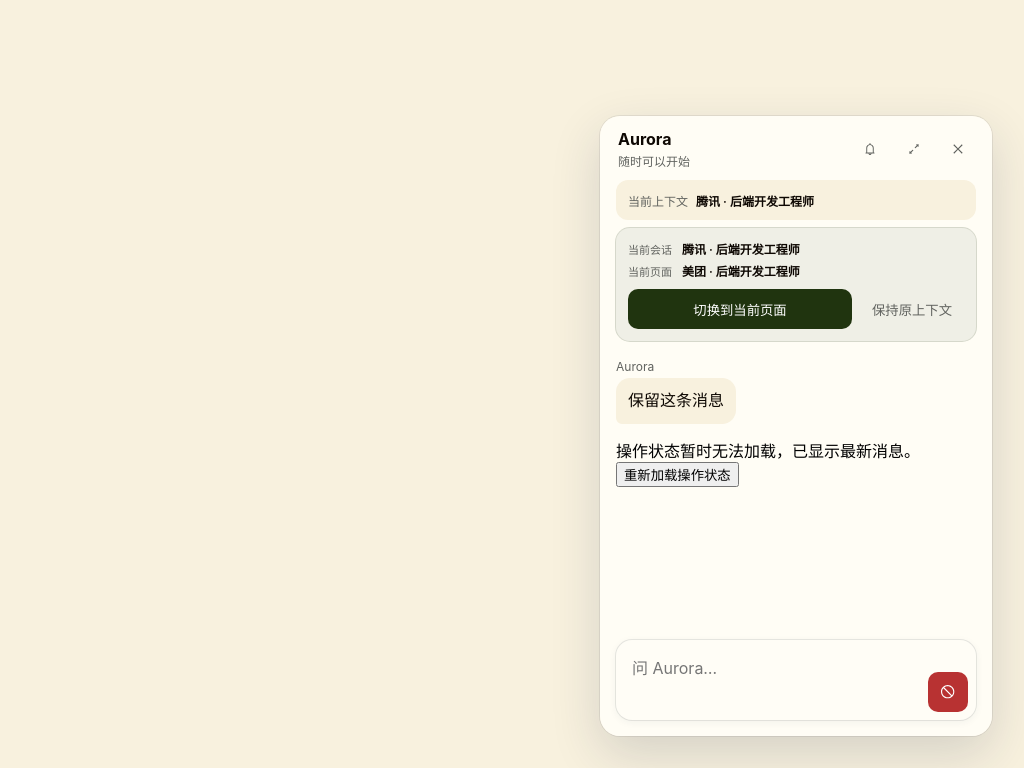
Test case: HaruChatWindow › keeps a visible read-only recovery entry without Pending or Undo and recovers the display
This screenshot has width=1024, height=768.
Click the button "重新加载操作状态".
click(677, 474)  # box [616,462,739,487]
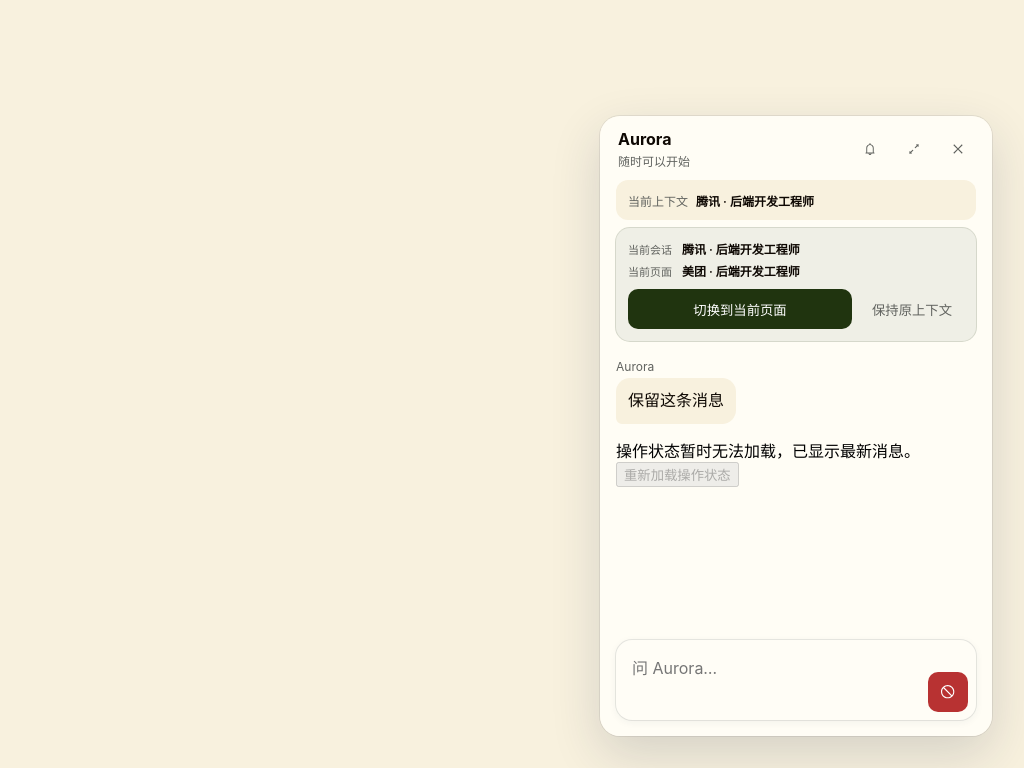
Now the button "重新加载操作状态" is disabled
Click the button "重新加载操作状态".
click(677, 474)  # box [616,462,739,487]
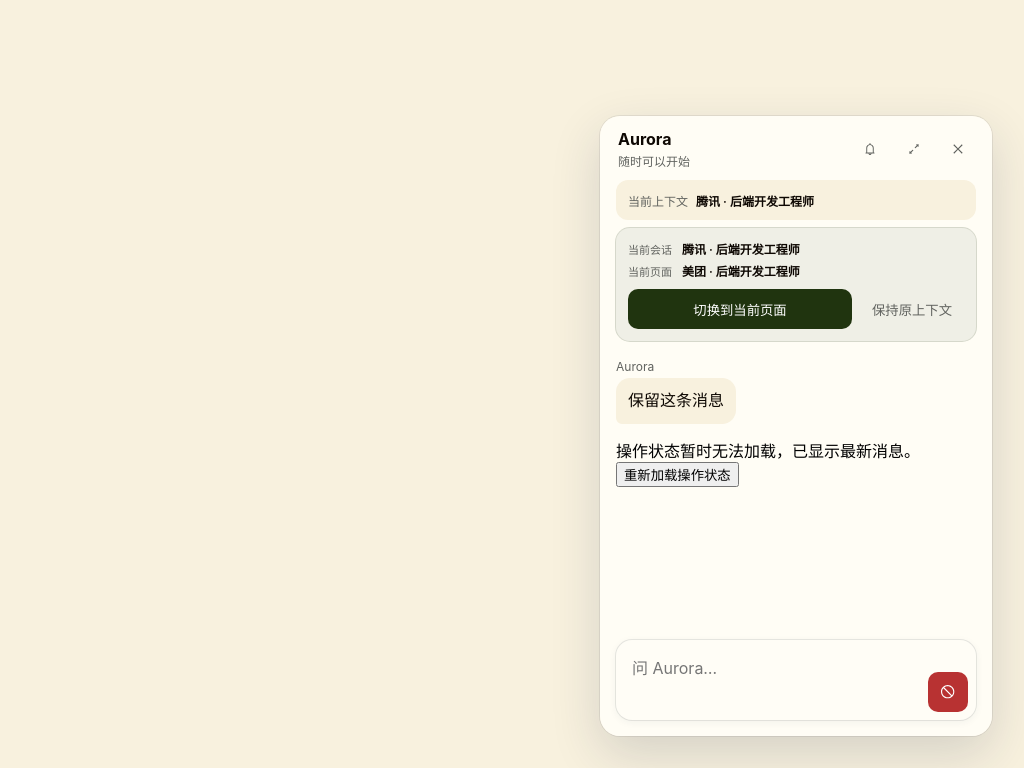
Expected: the text "保留这条消息" is shown, [616,378,736,424]
Now the button "重新加载操作状态" is enabled
Click the button "重新加载操作状态".
click(677, 474)  # box [616,462,739,487]
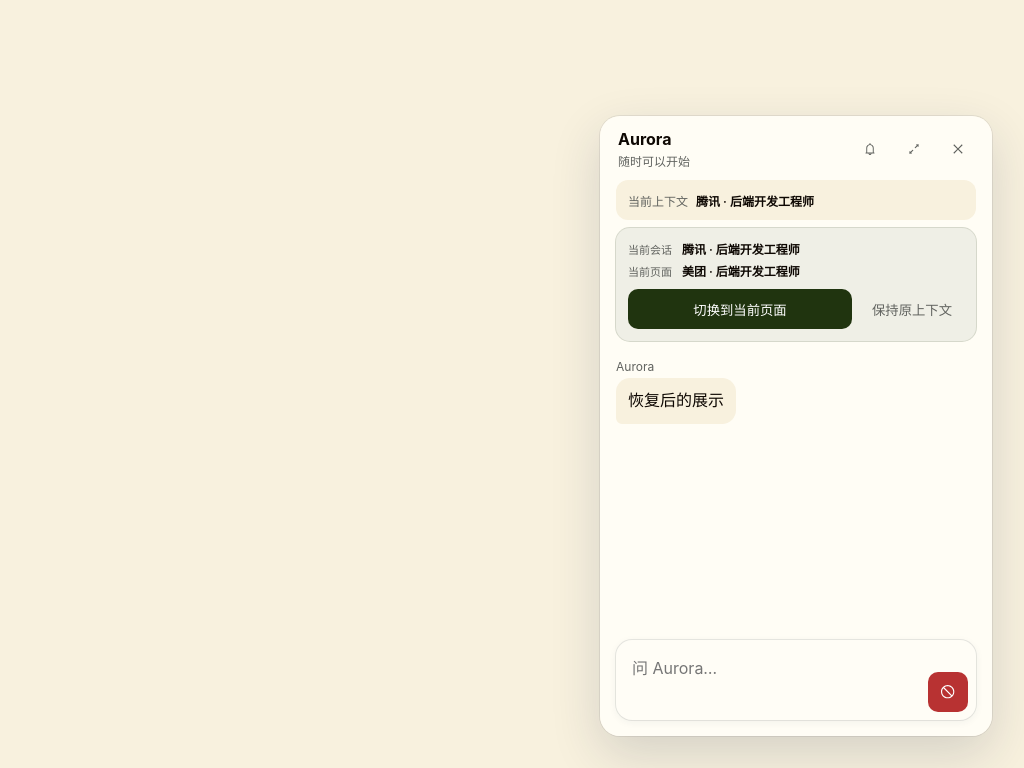
Now the text "恢复后的展示" is shown, box [616,378,736,424]
Now the text "重新加载操作状态" is gone
